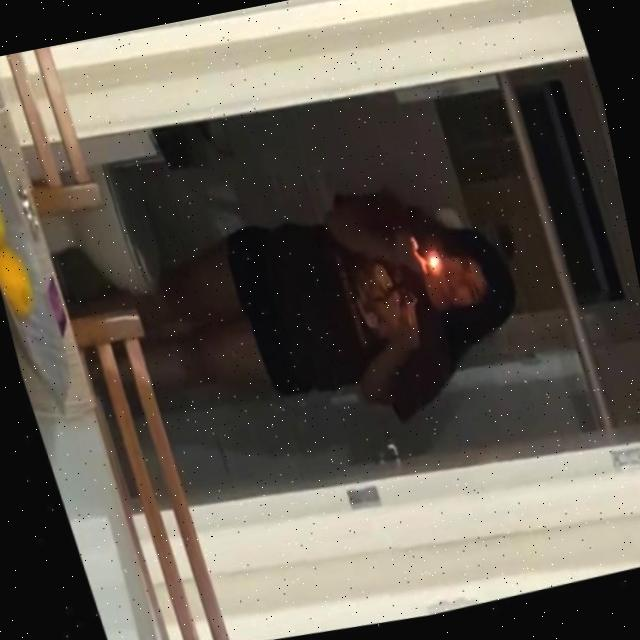fire: (416, 244, 445, 284)
